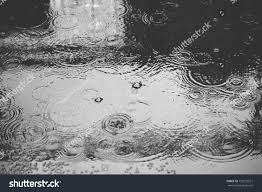Wet-floor: (1, 20, 262, 169)
